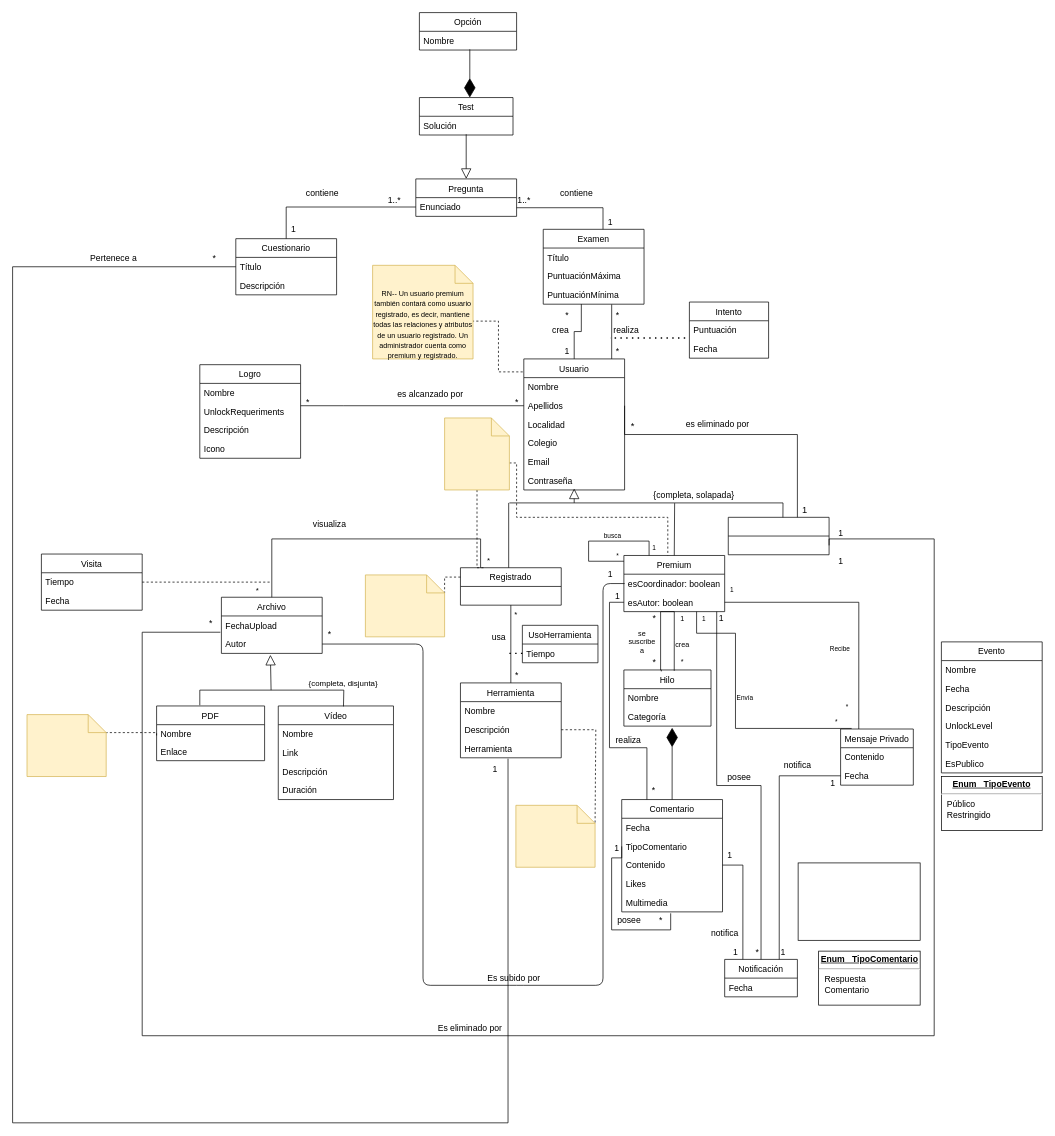
This 1055x1136 diagram has some shape labels left out. The shapes that lost their labels are listed below. From the top down, each one's centre as x and y in pixels, then its label:
At point (476, 453): "RN--Un usuario pasa a ser premium pagando una cuota anual".
At point (778, 536): "Administrador".
At point (405, 605): "RN--Un usuario pasa de ser invitado a registrado al registrarse en la página".
At point (66, 745): "RN--Un usuario no registrado también puede ver los PDF, pero nada de lo demás".
At point (555, 836): "RN--Cada vez que un usuario haga uso de una herramienta, debe pagar".
At point (858, 901): "Enum Categoría General BuenasPrácticasEducativas Preguntas Eventos Noticias".
